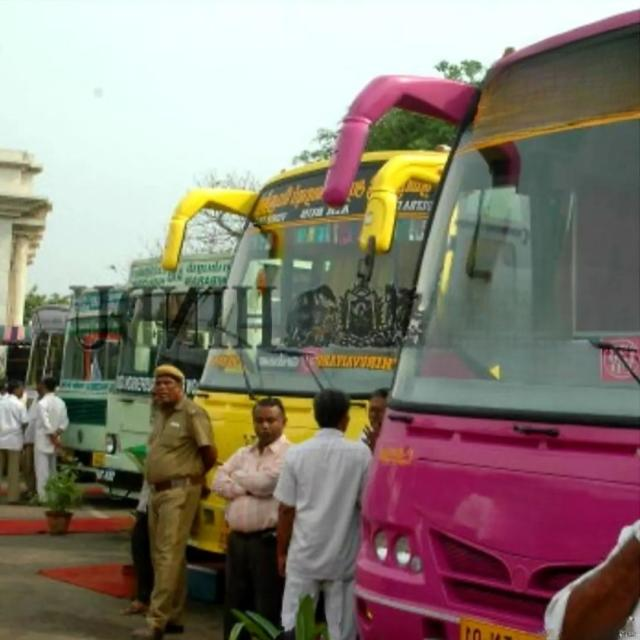bus: (325, 10, 640, 638), (160, 151, 448, 460)
